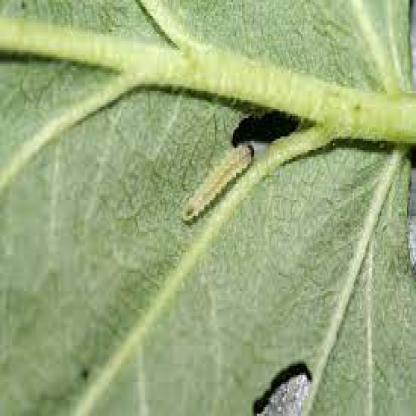sawfly: (180, 136, 260, 226)
